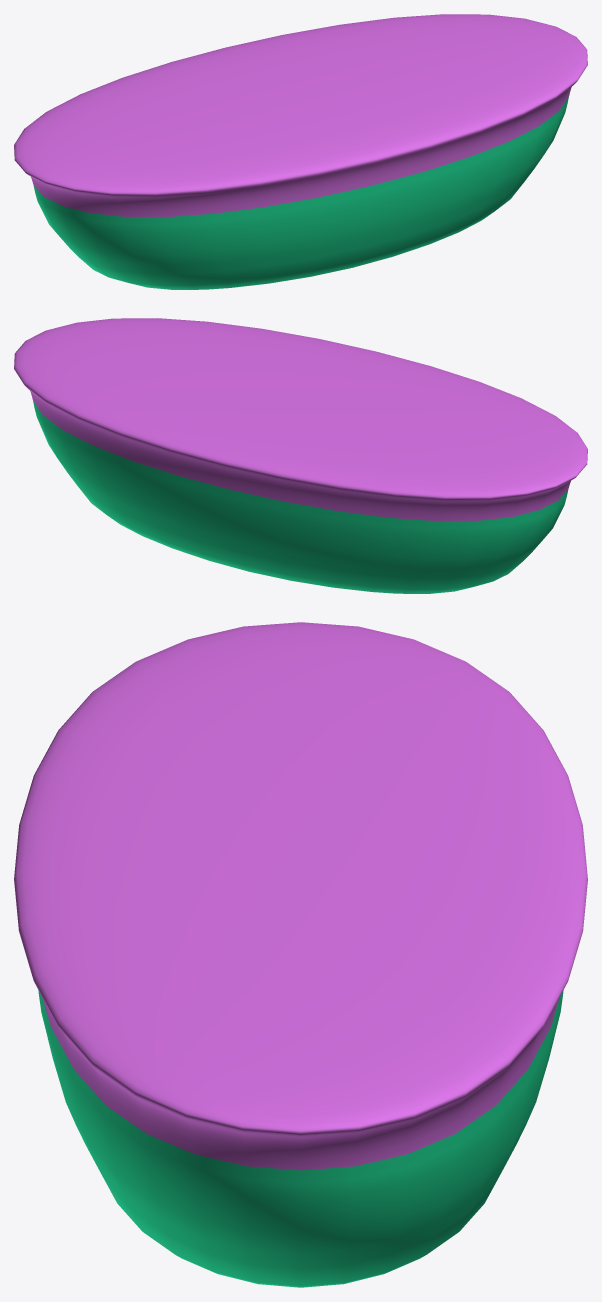
Rendered from NEW PLATFORM.fbx.
3 renders of one model, top to bottom at view 1: azimuth 30°, elevation 25°; view 2: azimuth 150°, elevation 25°; view 3: azimuth 270°, elevation 25°, orthographic. The views are drawn at different scales.
Parts seen in each view (by area): view 1: Cube.002; view 2: Cube.002; view 3: Cube.002.
Boxes of the visible parts, x1,y1,x2,y2 form: Cube.002: (14,14,587,289); Cube.002: (14,318,587,593); Cube.002: (14,622,587,1287).
Size of the model in its own units: 491 by 130 by 234.
